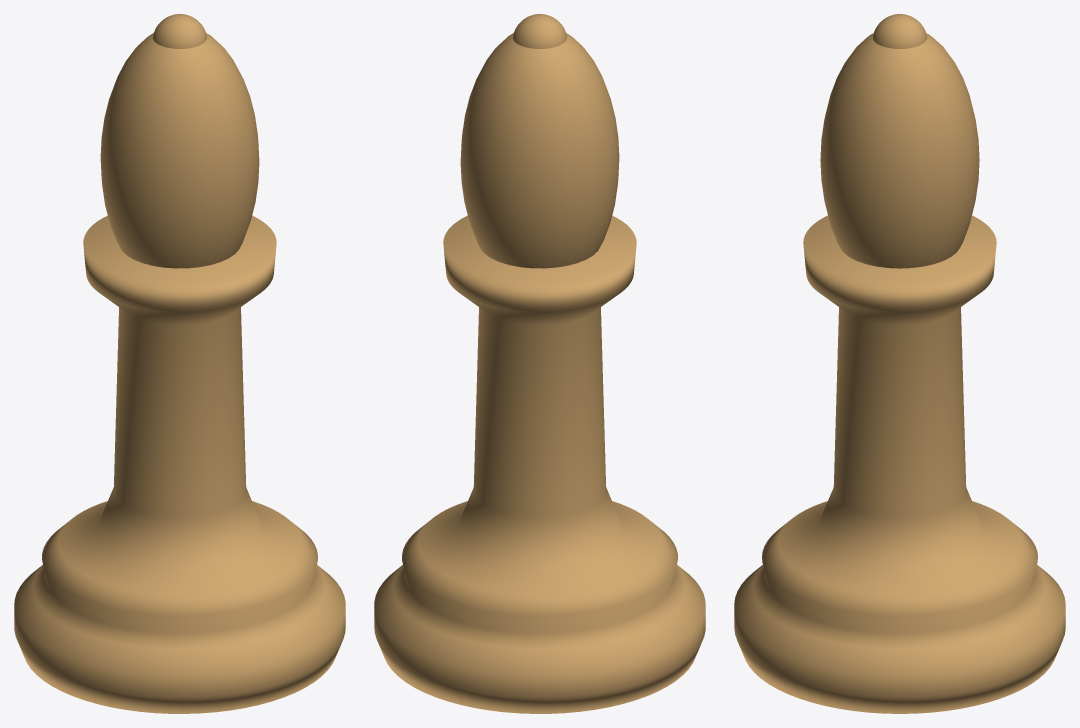
File: bishop.glb
3 views of the same model, side by side, from view 1: azimuth 30°, elevation 25°; view 2: azimuth 150°, elevation 25°; view 3: azimuth 270°, elevation 25° (orthographic).
Size of the model in its own units: 1.2 by 2.52 by 1.2.
